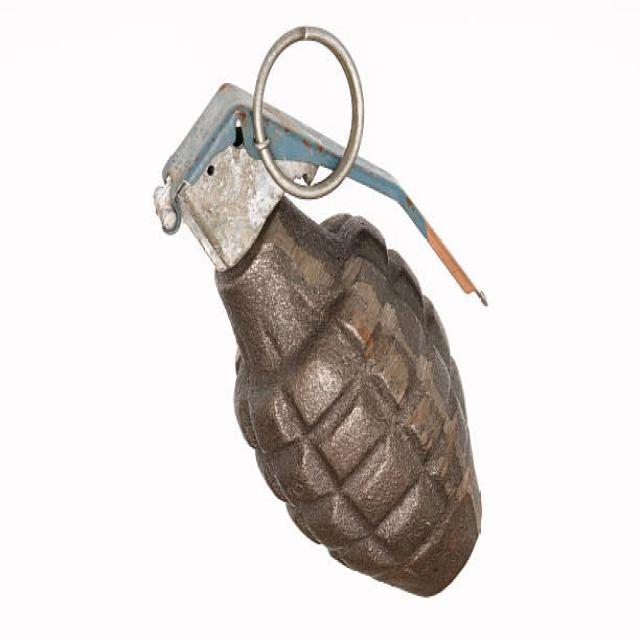grenade: (149, 22, 504, 603)
